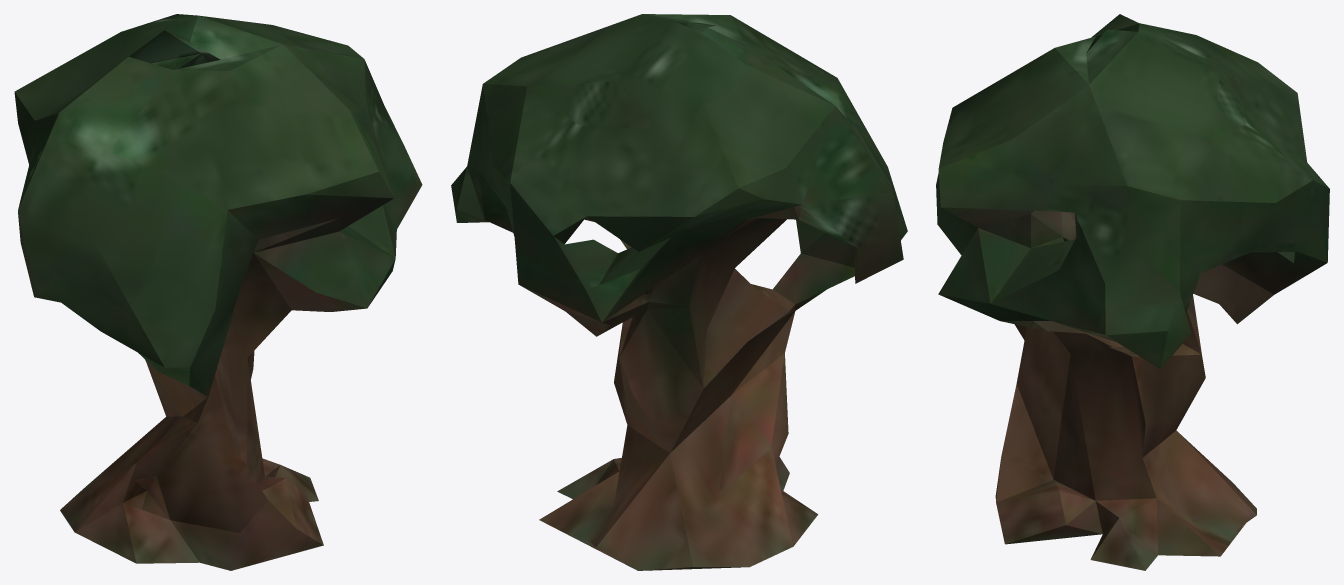
The model's file is bg_forest_leaf_1_lod1.glb.
The picture shows the model from 3 angles, left to right: view 1: azimuth 30°, elevation 25°; view 2: azimuth 150°, elevation 25°; view 3: azimuth 270°, elevation 25°; orthographic projection. The views are drawn at different scales.
Parts seen in each view (by area): view 1: sway, body; view 2: sway, body; view 3: sway, body.
Boxes of the visible parts, box(x1,y1,x2,y2) form: sway: box(14, 14, 422, 396); body: box(60, 218, 339, 570); sway: box(451, 14, 907, 388); body: box(539, 207, 854, 570); sway: box(936, 14, 1329, 369); body: box(995, 210, 1273, 570).
Bounding box in the file's own units: 5.29 × 6.17 × 4.52.
Materials: 1 (1 with a texture image).
